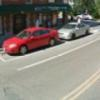cars: (2, 28, 58, 54)
